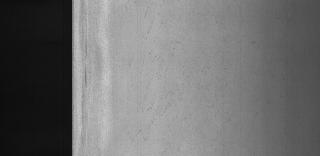silk spot: (131, 0, 207, 148)
